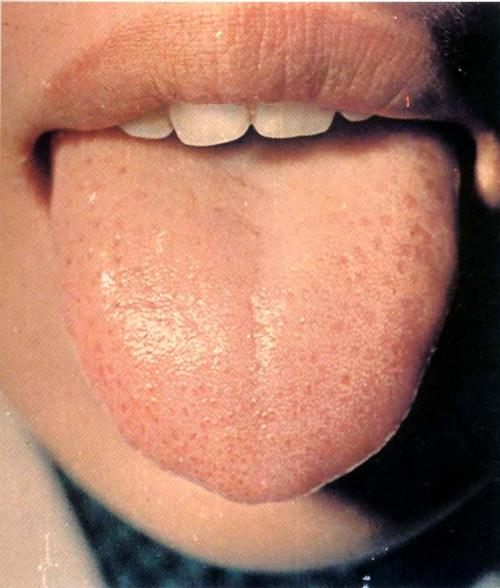baitaishe: (48, 127, 457, 502)
hongdianshe: (146, 383, 365, 454)
